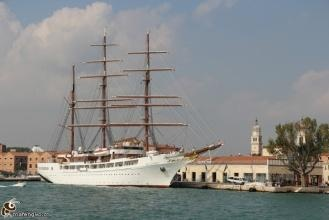fanchuan: (41, 24, 222, 188)
